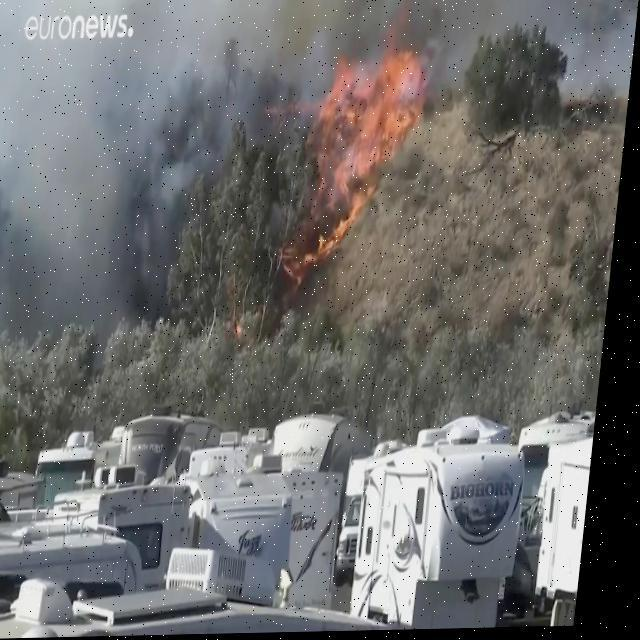Fire: (278, 32, 430, 284)
